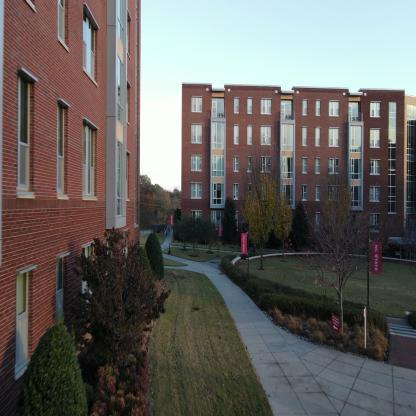Wolf Ridge: (174, 52, 415, 310), (0, 4, 150, 416)
